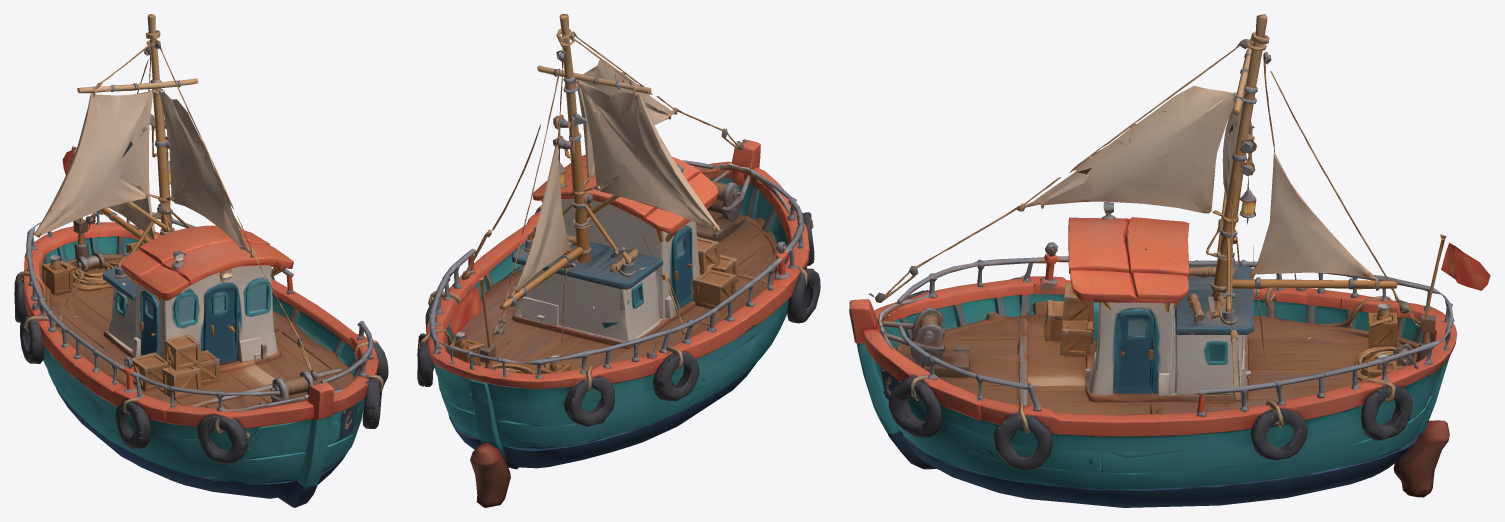
Rendered from fishing-boat-cartoon-desktop-decimated.glb.
The picture shows the model from 3 angles, left to right: view 1: azimuth 30°, elevation 25°; view 2: azimuth 150°, elevation 25°; view 3: azimuth 270°, elevation 25°; orthographic projection. The views are drawn at different scales.
Parts seen in each view (by area): view 1: model; view 2: model; view 3: model.
Part boxes in pixels (bbox=[...]): model: bbox=[14, 14, 388, 507]; model: bbox=[417, 14, 820, 507]; model: bbox=[849, 14, 1490, 507].
Size of the model in its own units: 1.02 by 1.54 by 1.88.
Materials: 1 (1 with a texture image).
